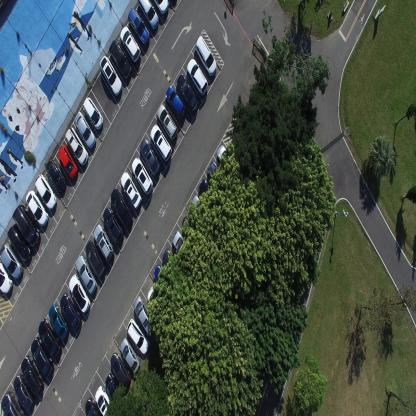car: (12, 203, 41, 247), (194, 34, 217, 78), (133, 294, 156, 338), (30, 337, 54, 378), (7, 223, 32, 262), (108, 39, 132, 79), (38, 318, 61, 359), (65, 126, 88, 166), (20, 355, 43, 395), (26, 189, 50, 227), (110, 186, 132, 227), (176, 73, 198, 114), (100, 55, 122, 96), (68, 273, 90, 314), (127, 6, 150, 45), (150, 122, 172, 162), (186, 57, 208, 97), (74, 110, 96, 150), (34, 174, 58, 210), (131, 156, 153, 195), (120, 170, 142, 209), (76, 255, 98, 294), (0, 243, 23, 280), (157, 102, 178, 142), (119, 336, 140, 376), (119, 25, 141, 63), (60, 293, 82, 331), (140, 138, 160, 179), (93, 223, 114, 262), (12, 374, 34, 411), (127, 317, 149, 354), (103, 206, 124, 244), (85, 240, 106, 278), (48, 302, 68, 340), (110, 351, 130, 389), (198, 178, 219, 214), (166, 84, 186, 121), (207, 160, 227, 196), (216, 144, 236, 180), (58, 143, 78, 179), (82, 96, 103, 130), (136, 0, 158, 32), (153, 264, 173, 298), (46, 158, 66, 192), (172, 231, 191, 266), (94, 386, 116, 416), (105, 373, 123, 407), (180, 215, 198, 247), (161, 249, 180, 279), (189, 195, 207, 226), (147, 285, 164, 314), (0, 259, 13, 293), (84, 396, 100, 415), (152, 0, 169, 17)
